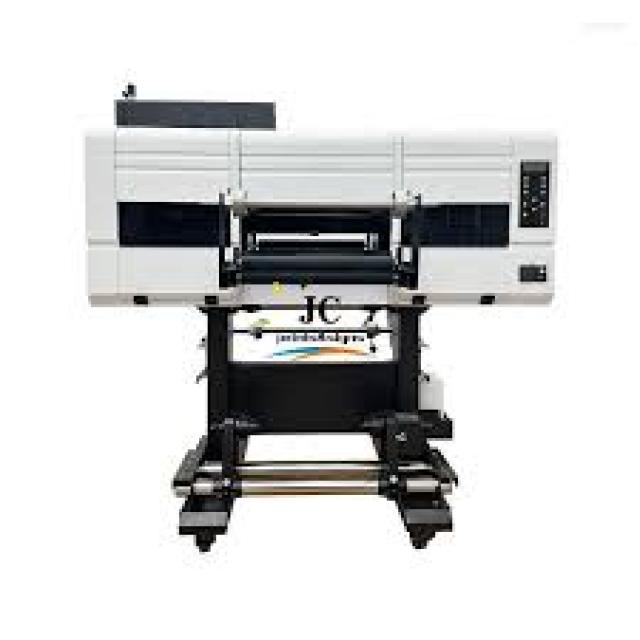printer: (82, 80, 558, 552)
